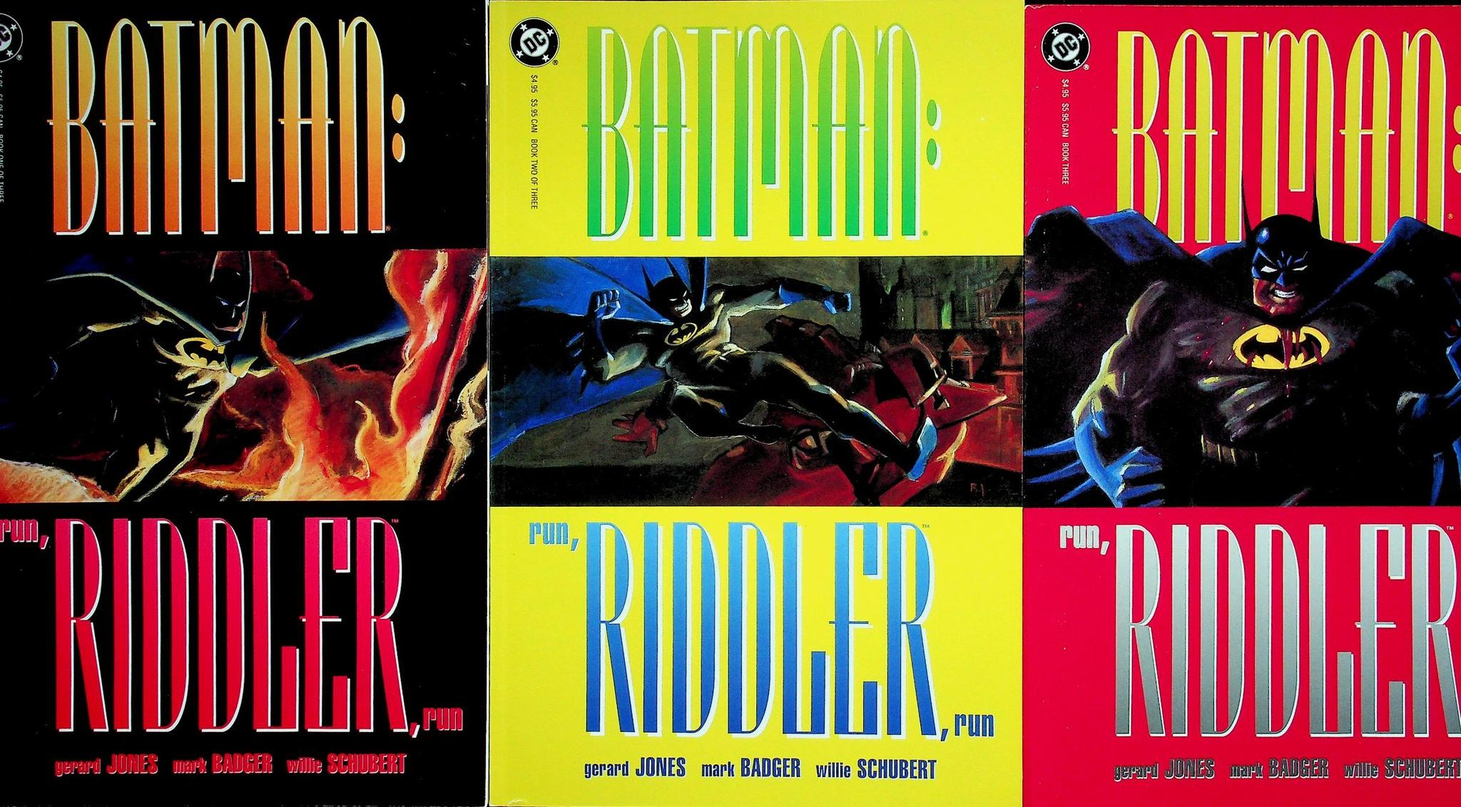comic: (489, 0, 1023, 804), (0, 2, 487, 803), (1024, 6, 1460, 803)
